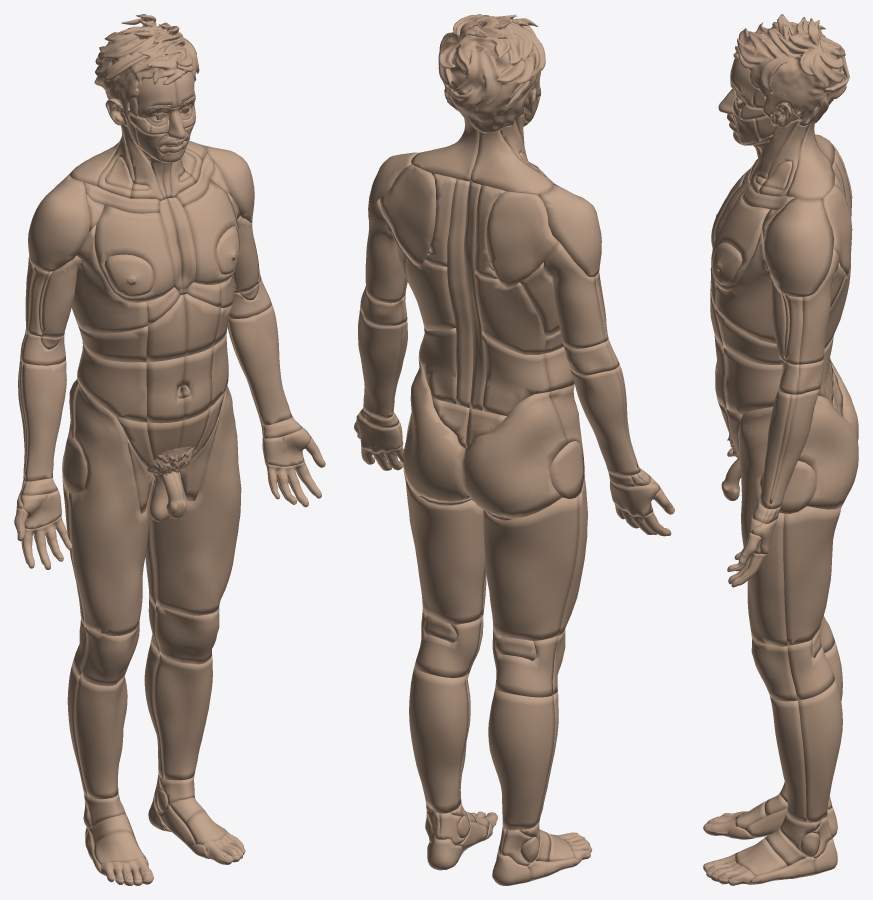
Rendered from integumentary.glb.
The picture shows the model from 3 angles, left to right: view 1: azimuth 30°, elevation 25°; view 2: azimuth 150°, elevation 25°; view 3: azimuth 270°, elevation 25°; orthographic projection. The views are drawn at different scales.
Parts seen in each view (by area): view 1: za-bde75896e8bd00e9, za-27fc864c1cbc3bec, za-1c8d9ad40a2e3bc9, za-ee1a12fbaaa505b5, za-7b96535e4e77e5a6, za-df36c6532749c47e, za-d739074c1bfeae03, za-f324264a639af52a, za-17bf4bea0a9ee08c, za-ebd3e1765a4100b6, za-e4bdbadd2fb17a6f, za-17e7bc88280f530c (+46 smaller); view 2: za-8307ddd468d031d2, za-1c8d9ad40a2e3bc9, za-2589d12bf7f1a67e, za-ae69407804d1c31a, za-115204bfc0d23015, za-b6c91c8f6f2c57e7, za-c0df34ba30a814a6, za-6be303e428a8cb5c, za-58babefad2694da9, za-5f215560d96c3946, za-b0936d690e4fcc26, za-b735a06ecc36e7d0 (+32 smaller); view 3: za-1c8d9ad40a2e3bc9, za-27fc864c1cbc3bec, za-ae69407804d1c31a, za-28454531410f7cbf, za-c0df34ba30a814a6, za-b6c91c8f6f2c57e7, za-69ed877510e6565f, za-ee1a12fbaaa505b5, za-845e0d8fe6a93309, za-17e7bc88280f530c, za-45e91fff61430718, za-f125ef7fdb691b01 (+45 smaller).
Boxes of the visible parts, x1,y1,x2,y2 form: za-bde75896e8bd00e9: (69,382,154,636); za-27fc864c1cbc3bec: (150,383,241,615); za-1c8d9ad40a2e3bc9: (94,14,199,123); za-ee1a12fbaaa505b5: (153,654,212,780); za-7b96535e4e77e5a6: (74,674,127,799); za-df36c6532749c47e: (94,205,174,302); za-d739074c1bfeae03: (28,174,90,271); za-f324264a639af52a: (228,304,292,425); za-17bf4bea0a9ee08c: (22,360,66,481); za-ebd3e1765a4100b6: (71,225,147,333); za-e4bdbadd2fb17a6f: (77,342,147,422); za-17e7bc88280f530c: (183,179,238,284); za-8307ddd468d031d2: (483,496,579,640); za-1c8d9ad40a2e3bc9: (438,14,545,133); za-2589d12bf7f1a67e: (462,392,567,518); za-ae69407804d1c31a: (403,471,485,624); za-115204bfc0d23015: (488,688,555,830); za-b6c91c8f6f2c57e7: (409,667,468,813); za-c0df34ba30a814a6: (403,360,470,501); za-6be303e428a8cb5c: (486,191,559,287); za-58babefad2694da9: (543,242,606,348); za-5f215560d96c3946: (475,273,545,354); za-b0936d690e4fcc26: (379,164,436,266); za-b735a06ecc36e7d0: (570,368,640,475); za-1c8d9ad40a2e3bc9: (733,14,849,126); za-27fc864c1cbc3bec: (738,407,787,646); za-ae69407804d1c31a: (783,506,841,645); za-28454531410f7cbf: (763,197,834,297); za-c0df34ba30a814a6: (798,395,858,509); za-b6c91c8f6f2c57e7: (798,679,842,822); za-69ed877510e6565f: (715,229,846,343); za-ee1a12fbaaa505b5: (770,696,806,822); za-845e0d8fe6a93309: (723,347,782,414); za-17e7bc88280f530c: (711,197,769,291); za-45e91fff61430718: (799,248,839,364); za-f125ef7fdb691b01: (784,120,834,199).
Bounding box in the file's own units: 0.6801 × 1.74 × 0.294.
